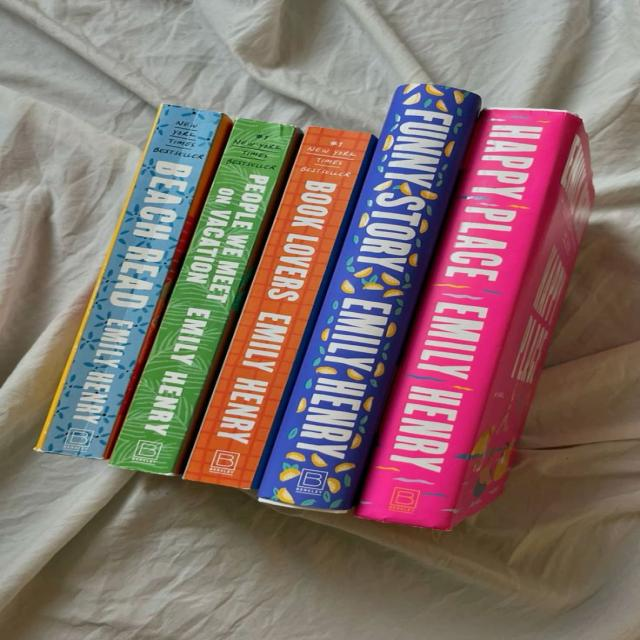book: (356, 109, 590, 529), (257, 84, 481, 511), (36, 104, 231, 459), (110, 118, 301, 474), (183, 126, 370, 489)
